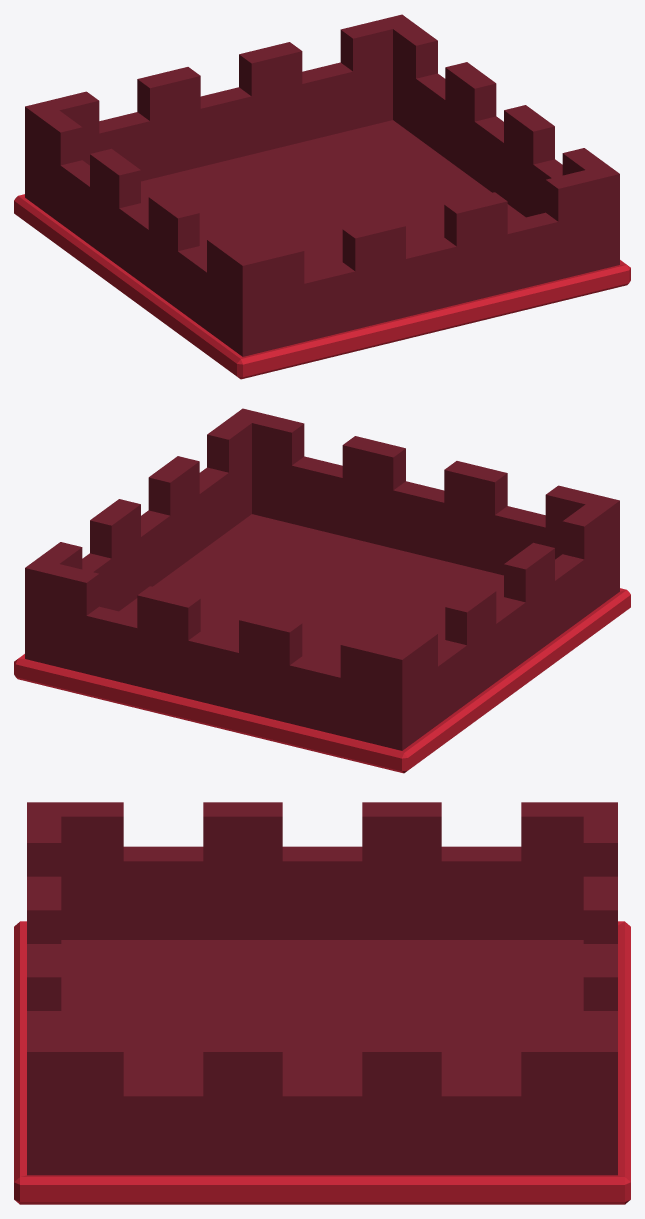
Rendered from Tower_TOP_Sqaure.fbx.
3 views of the same model, one above another, from view 1: azimuth 30°, elevation 25°; view 2: azimuth 150°, elevation 25°; view 3: azimuth 270°, elevation 25° (orthographic). The views are drawn at different scales.
Visible parts, largest first — view 1: tower_top_002_msh; view 2: tower_top_002_msh; view 3: tower_top_002_msh.
Part boxes in pixels (box(x1,y1,x2,y2)): tower_top_002_msh: box(14, 14, 630, 379); tower_top_002_msh: box(14, 408, 630, 773); tower_top_002_msh: box(14, 802, 630, 1204).
Bounding box in the file's own units: 376 × 101 × 376.
